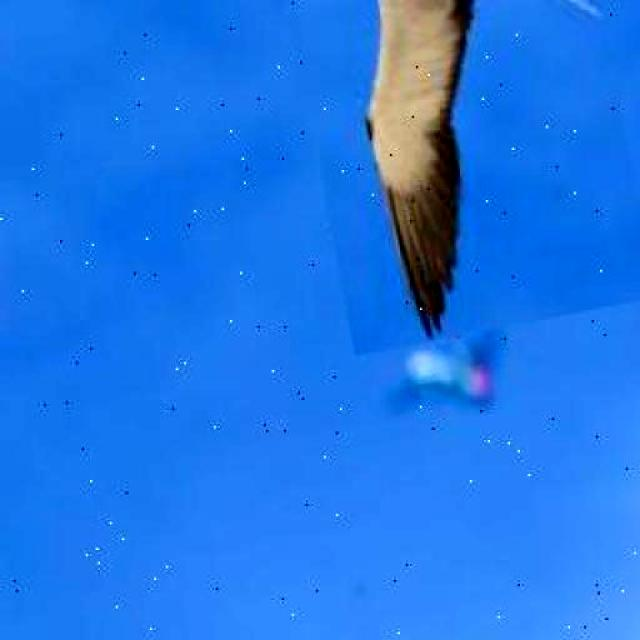airplane: (252, 0, 640, 358)
